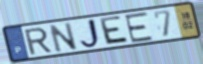7: (153, 9, 173, 39)
E: (123, 10, 155, 44), (99, 14, 131, 46)
J: (78, 18, 103, 50)
N: (47, 21, 79, 54)
R: (22, 26, 53, 57)
